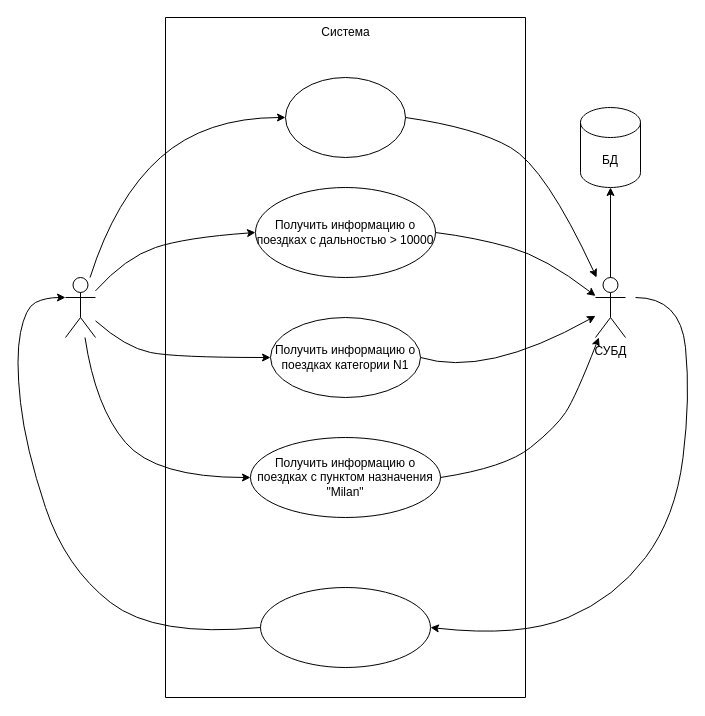
Some shapes in this 705 by 716 pixel diagram are drawn without their labels. Here are the shapes that lost their labels. From the top down, the centre of each, then its label:
the point at 345,117: Получить информацию о поездках с id = 1
the point at 80,307: Тестировщик
the point at 345,627: Отправить полученные данные
